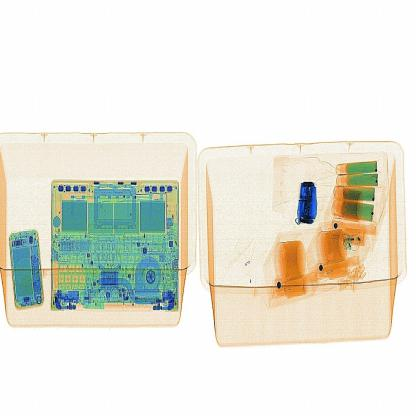scissors: (296, 176, 322, 228)
